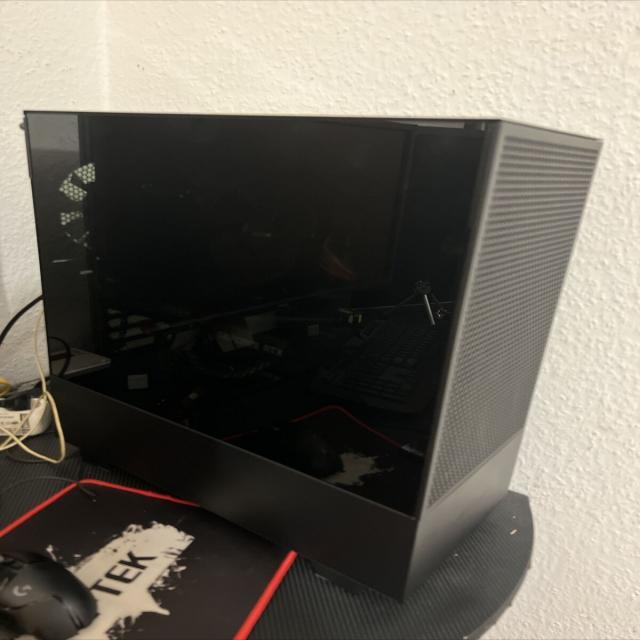Desktop-PC: (19, 89, 618, 585)
